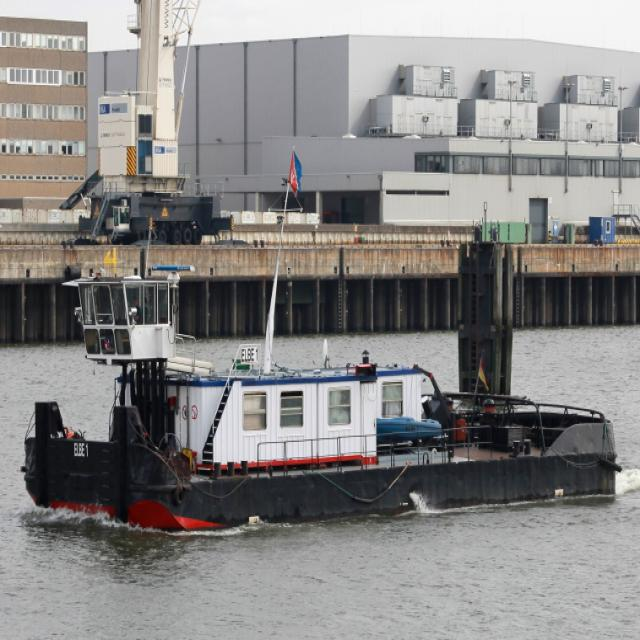tugboat: (18, 141, 626, 542)
